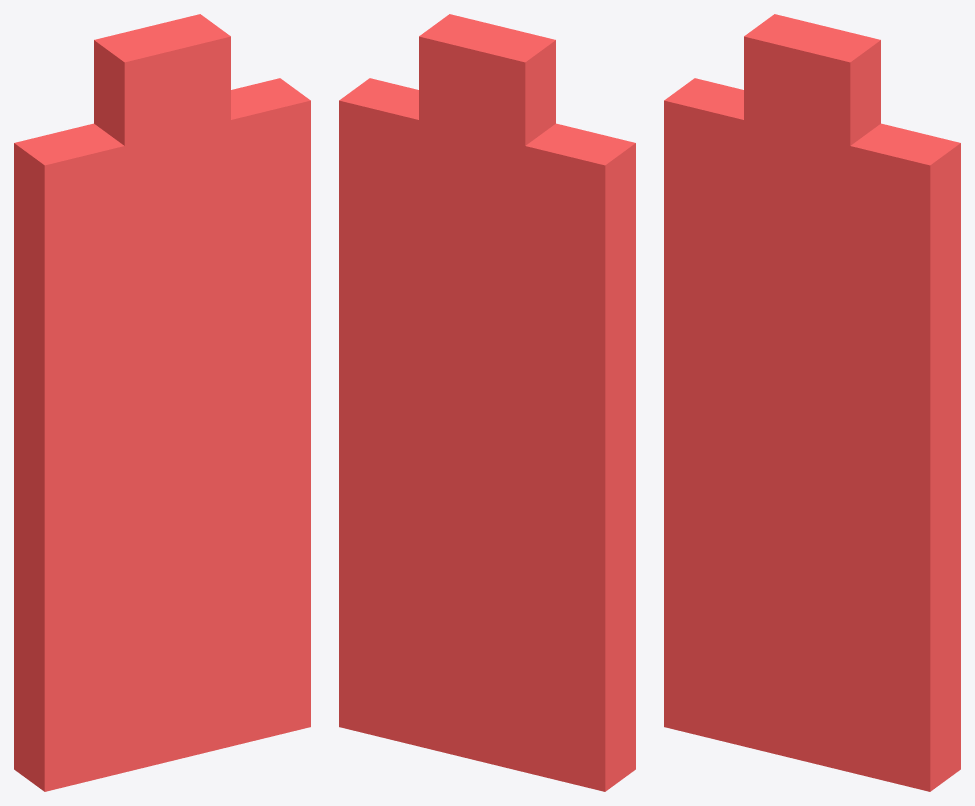
The model's file is BS_Portal_1.fbx.
3 renders of one model, left to right at view 1: azimuth 30°, elevation 25°; view 2: azimuth 150°, elevation 25°; view 3: azimuth 330°, elevation 25°, orthographic.
Visible parts, largest first — view 1: BS_Portal_1; view 2: BS_Portal_1; view 3: BS_Portal_1.
Boxes of the visible parts, <box> form: BS_Portal_1: <box>14,14,310,791</box>; BS_Portal_1: <box>339,14,635,791</box>; BS_Portal_1: <box>664,14,960,791</box>.
Bounding box in the file's own units: 50 × 10 × 127.
